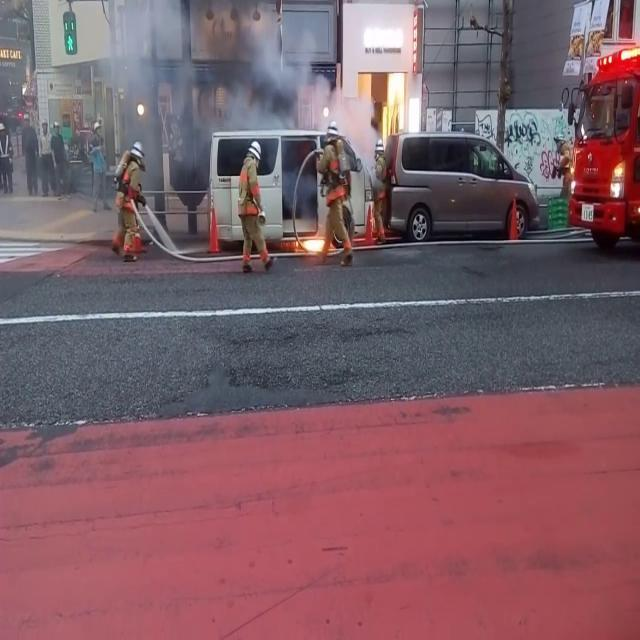Fire: (378, 55, 410, 147), (293, 225, 333, 260)
Smoke: (92, 1, 327, 167)
